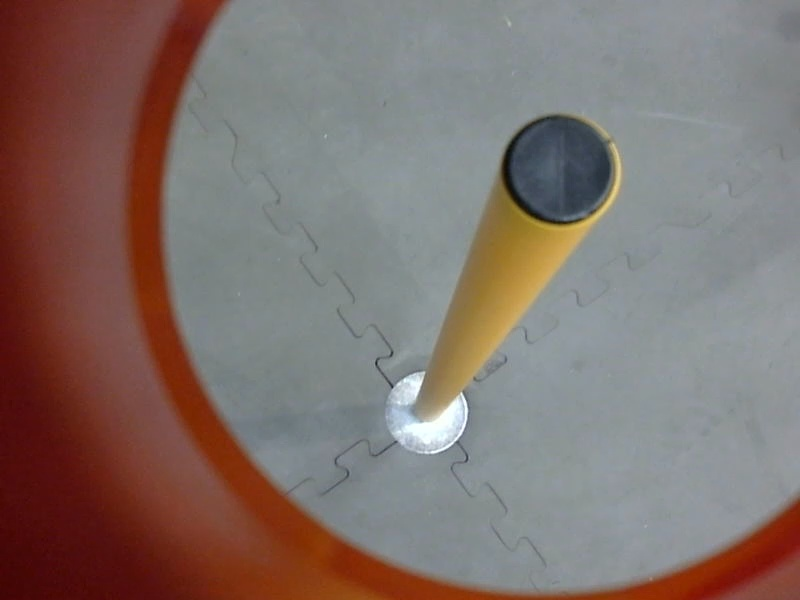tip: (496, 102, 627, 233)
